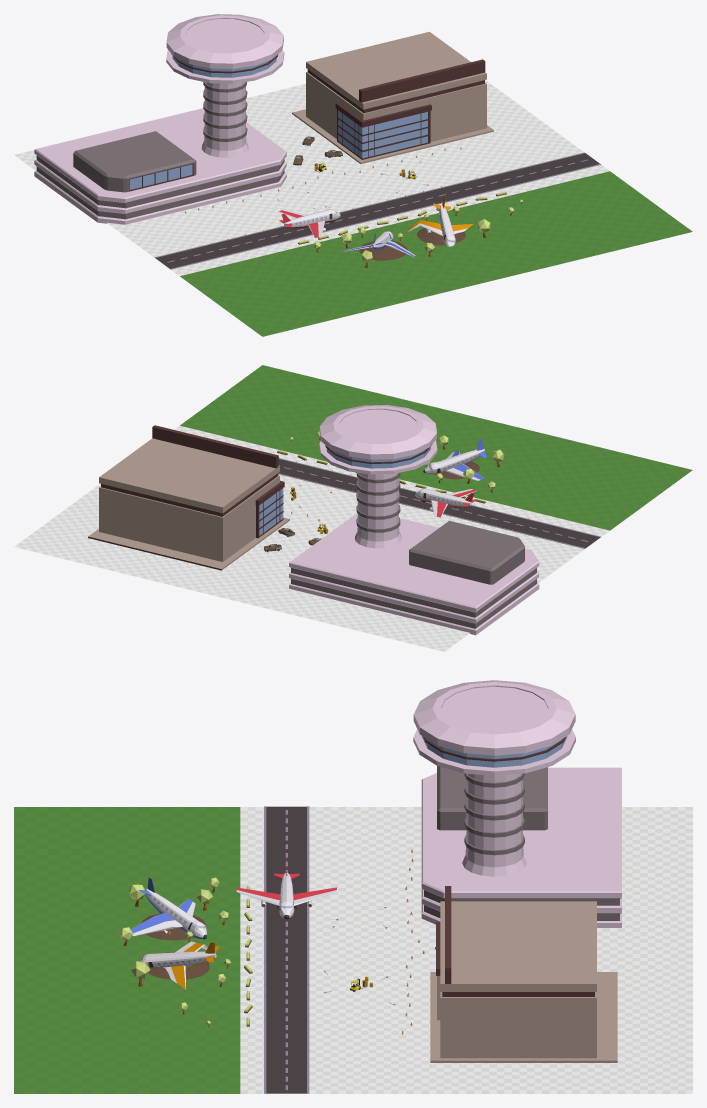
File: airport 1.fbx
3 views of the same model, one above another, from view 1: azimuth 30°, elevation 25°; view 2: azimuth 150°, elevation 25°; view 3: azimuth 270°, elevation 25° (orthographic). The views are drawn at different scales.
Parts seen in each view (by area): view 1: Grass.001, Building.001, Asphalt.001, Building2.001, Road, Plane, Plane.002, Plane.001; view 2: Building.001, Grass.001, Asphalt.001, Building2.001, Road, Plane.001, Plane; view 3: Asphalt.001, Grass.001, Building.001, Building2.001, Road, Plane.001, Plane.002, Plane.
Part boxes in pixels (box(x1,y1,x2,y2)): Grass.001: box(180, 171, 692, 336); Building.001: box(34, 14, 286, 224); Asphalt.001: box(14, 80, 609, 275); Building2.001: box(292, 31, 493, 163); Road: box(154, 152, 600, 269); Plane: box(278, 209, 341, 238); Plane.002: box(407, 195, 473, 246); Plane.001: box(343, 231, 415, 257); Building.001: box(289, 405, 539, 635); Grass.001: box(180, 365, 692, 530); Asphalt.001: box(14, 425, 609, 651); Building2.001: box(88, 425, 289, 570); Road: box(278, 458, 600, 548); Plane.001: box(423, 439, 486, 480); Plane: box(414, 488, 477, 517); Asphalt.001: box(240, 807, 692, 1093); Grass.001: box(14, 807, 240, 1093); Building.001: box(413, 680, 621, 927); Building2.001: box(430, 886, 617, 1062); Road: box(264, 806, 309, 1093); Plane.001: box(131, 877, 206, 939); Plane.002: box(139, 941, 219, 989); Plane: box(236, 858, 336, 919).
Bounding box in the file's own units: 245 × 77.03 × 242.
4 materials, 4 textured.
